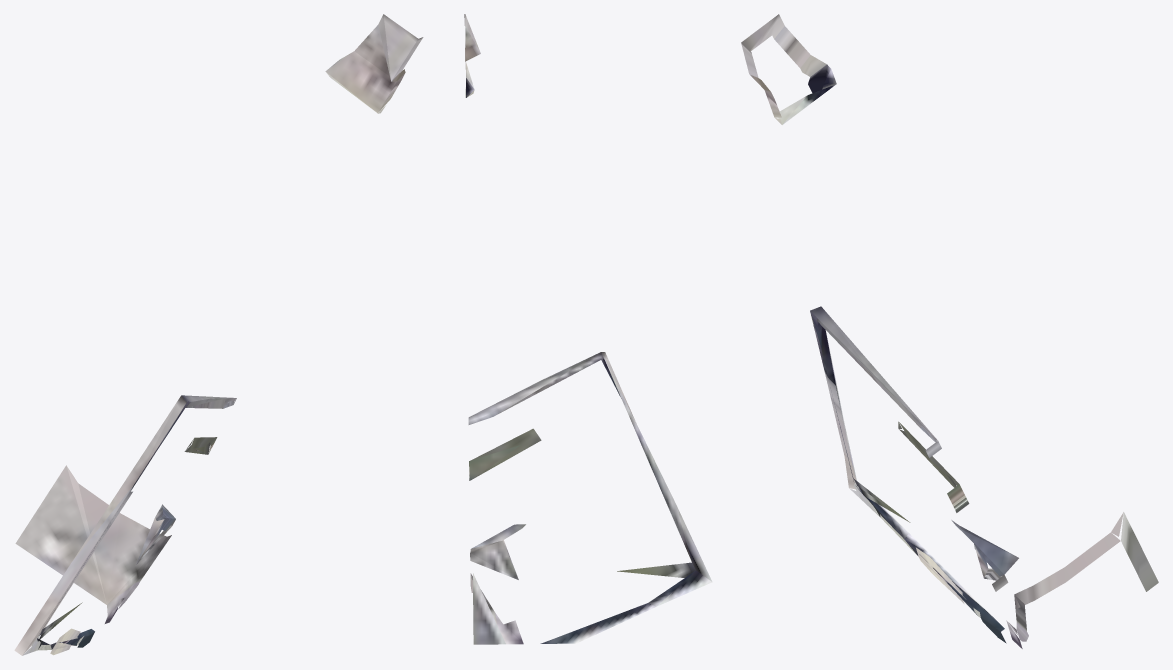
3 views of the same model, side by side, from view 1: azimuth 30°, elevation 25°; view 2: azimuth 150°, elevation 25°; view 3: azimuth 270°, elevation 25° (orthographic). The views are drawn at different scales.
Bounding box in the file's own units: 26.55 × 45.94 × 23.68.
1 material, 1 textured.
